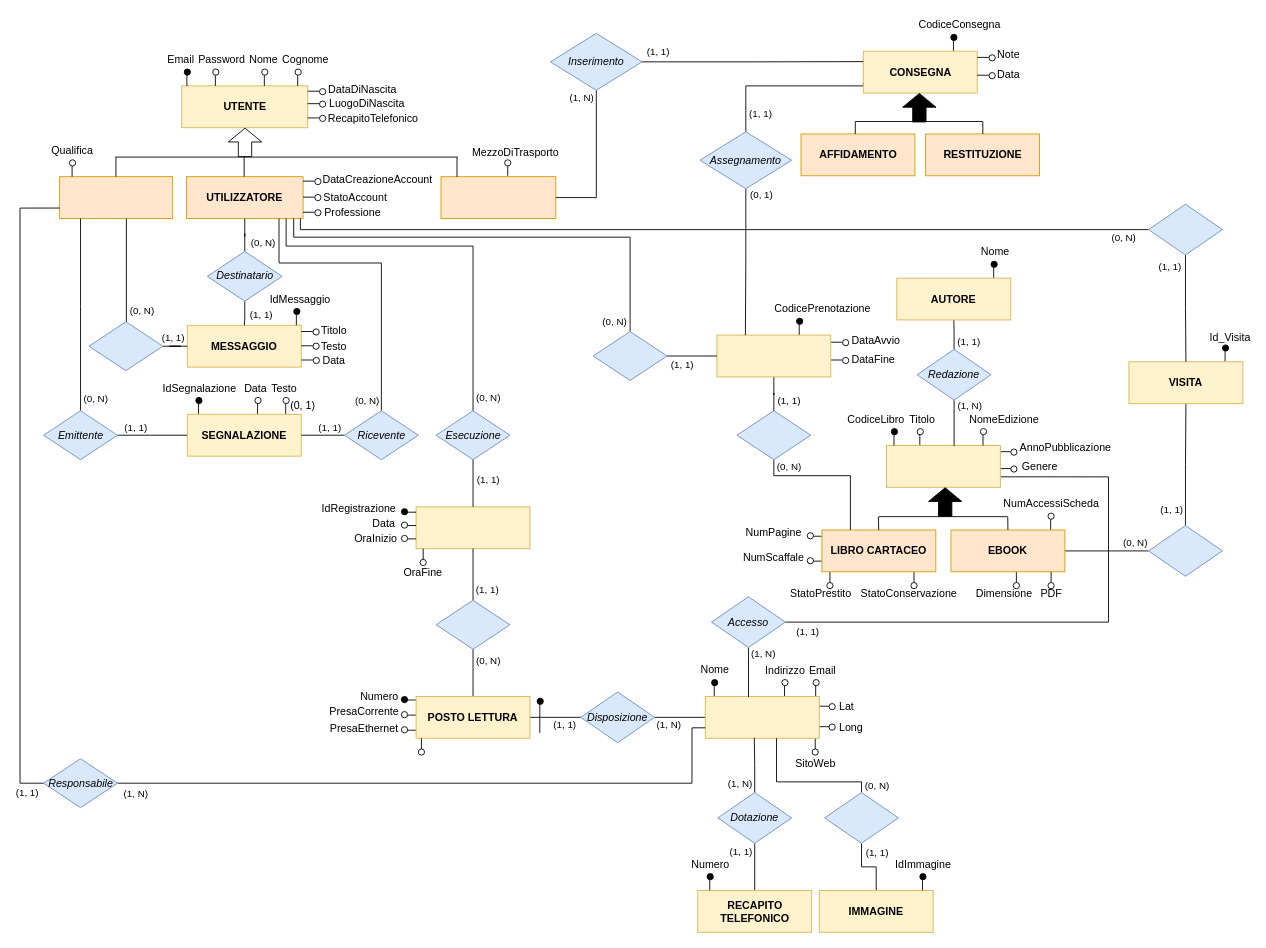
Image size: 1266x948. Some labels were removed from this diagram. The shapes that lost their labels are listed below. From the top down, each one's centre as x and y in pixels, then its label:
At (116,197): "AMMINISTRATORE".
At (498,197): "VOLONTARIO".
At (1185,229): "Effettuazione".
At (125,346): "Mittente".
At (629,355): "Compimento".
At (773,355): "PRENOTAZIONE".
At (773,435): "Attribuzione".
At (943,466): "LIBRO".
At (472,527): "REGISTRAZIONE".
At (1185,550): "Ricezione".
At (472,624): "Riferimento".
At (761,717): "BIBLIOTECA".
At (861,817): "Galleria".
